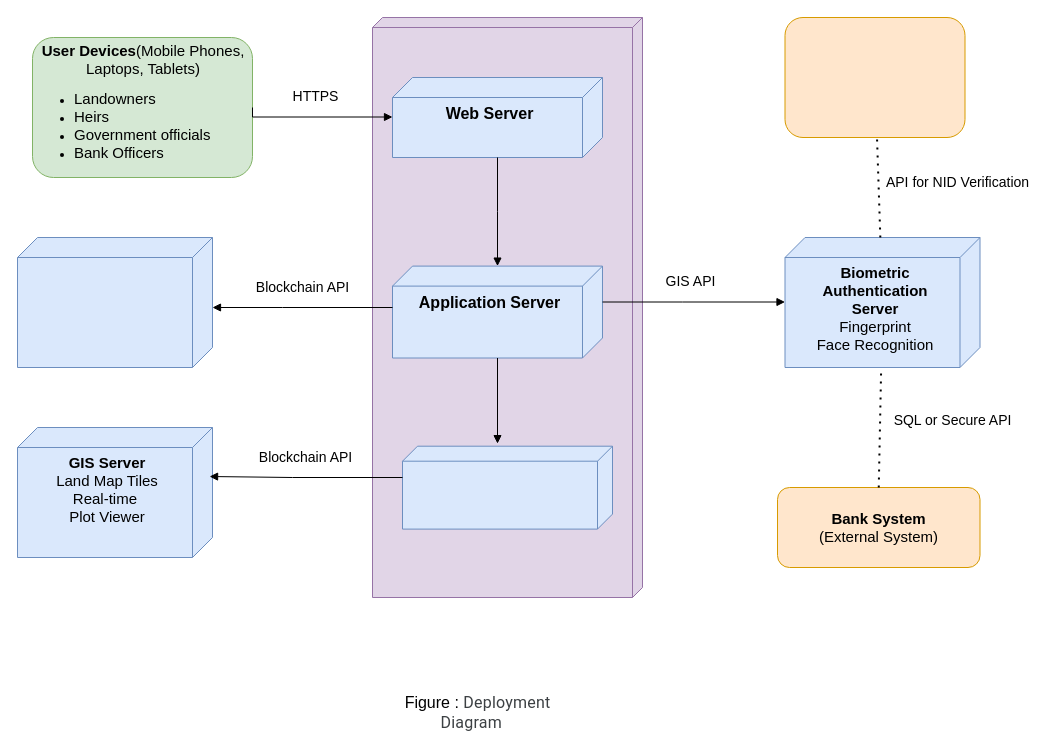
This 1060x749 diagram has some shape labels left out. The box of each missing label's shape, as (x1, y1, x2, y2) in pixels:
Blockchain Node Smart contracts Land Ownership Ledger: (16, 236, 212, 368)
Database Server LandOwner Profiles Loan info: (402, 445, 612, 529)
Government NID Database (External System): (784, 16, 965, 138)
